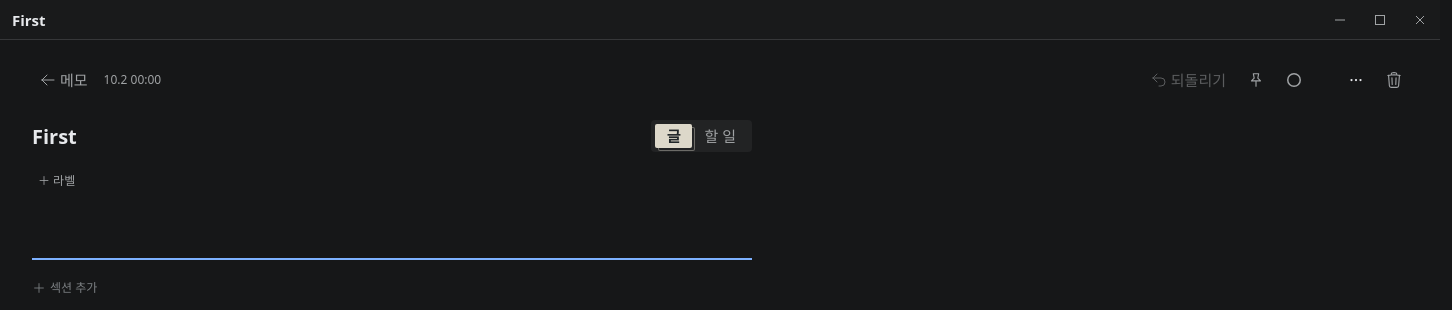
flushes trailing typing on switch before the debounce expires
The width and height of the screenshot is (1452, 310).
Type "first" into the text box named "메모 본문" at (392, 242), box [32, 226, 752, 258]
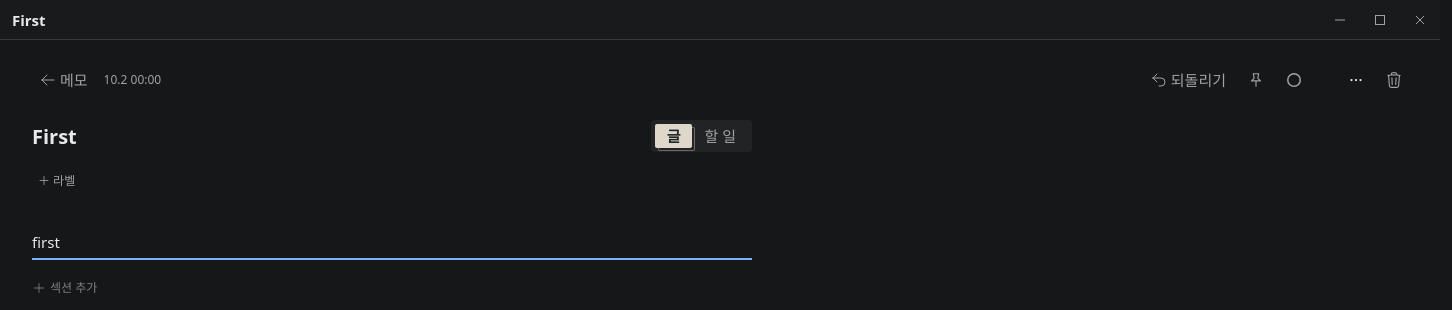
Replace the text in the text box named "메모 본문" with "latest" at (392, 242), box [32, 226, 752, 258]
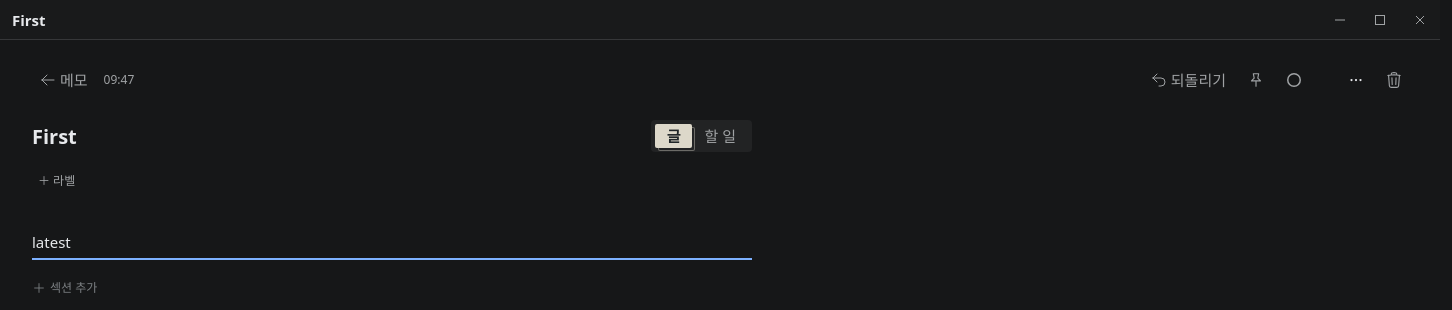
Click the button with aria-label "메모 닫기" at (64, 80), box [32, 66, 96, 94]
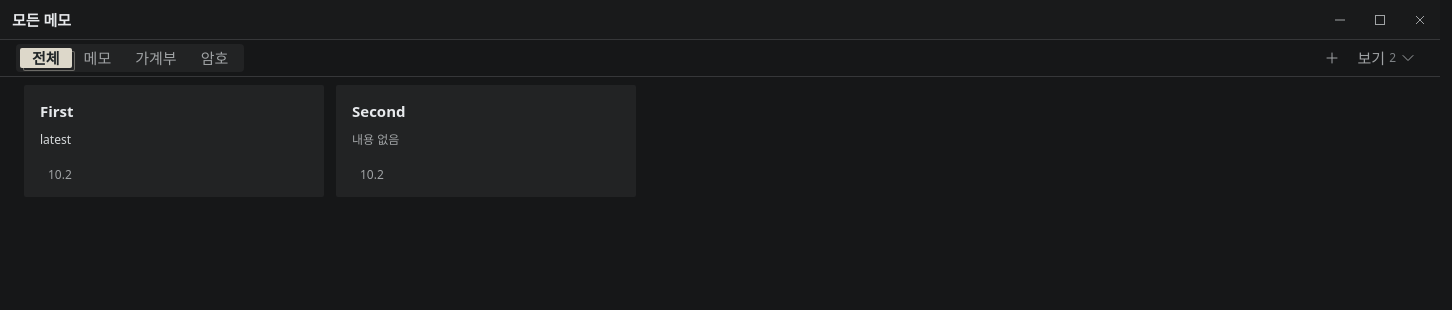
Click the button "Second 내용 없음 10.2" at (379, 111), box [336, 85, 636, 197]
Wait 2000 ms
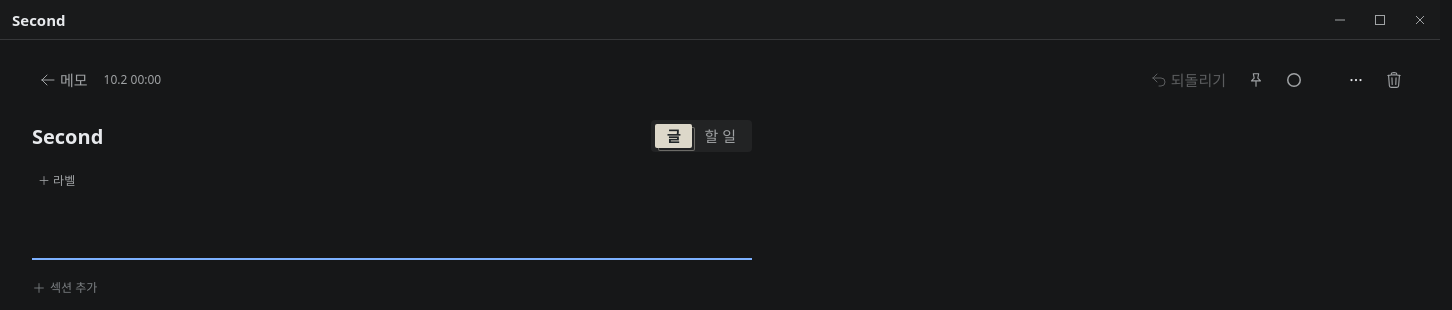
Result: the field named "메모 제목" holds "Second" at [32, 122, 639, 150]
